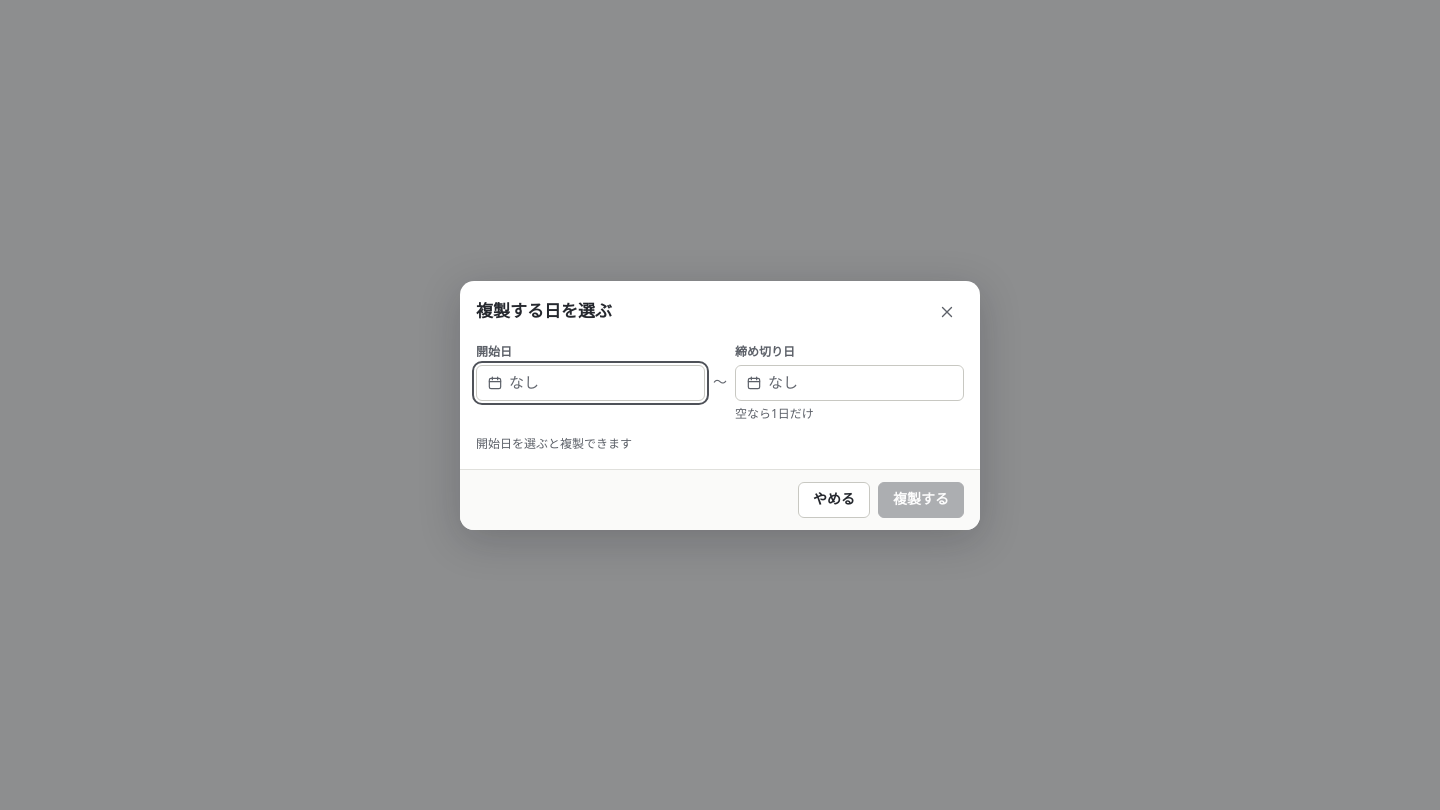
Test: 複製する日を選ぶ（12.7） › 元が複数日の予定なら、開始日を選ぶと締め切り日を元と同じ日数で入れる（直せる。ITEMS-255）
Click the button with test id "dup-start": x=590, y=382 [476, 364, 705, 400]
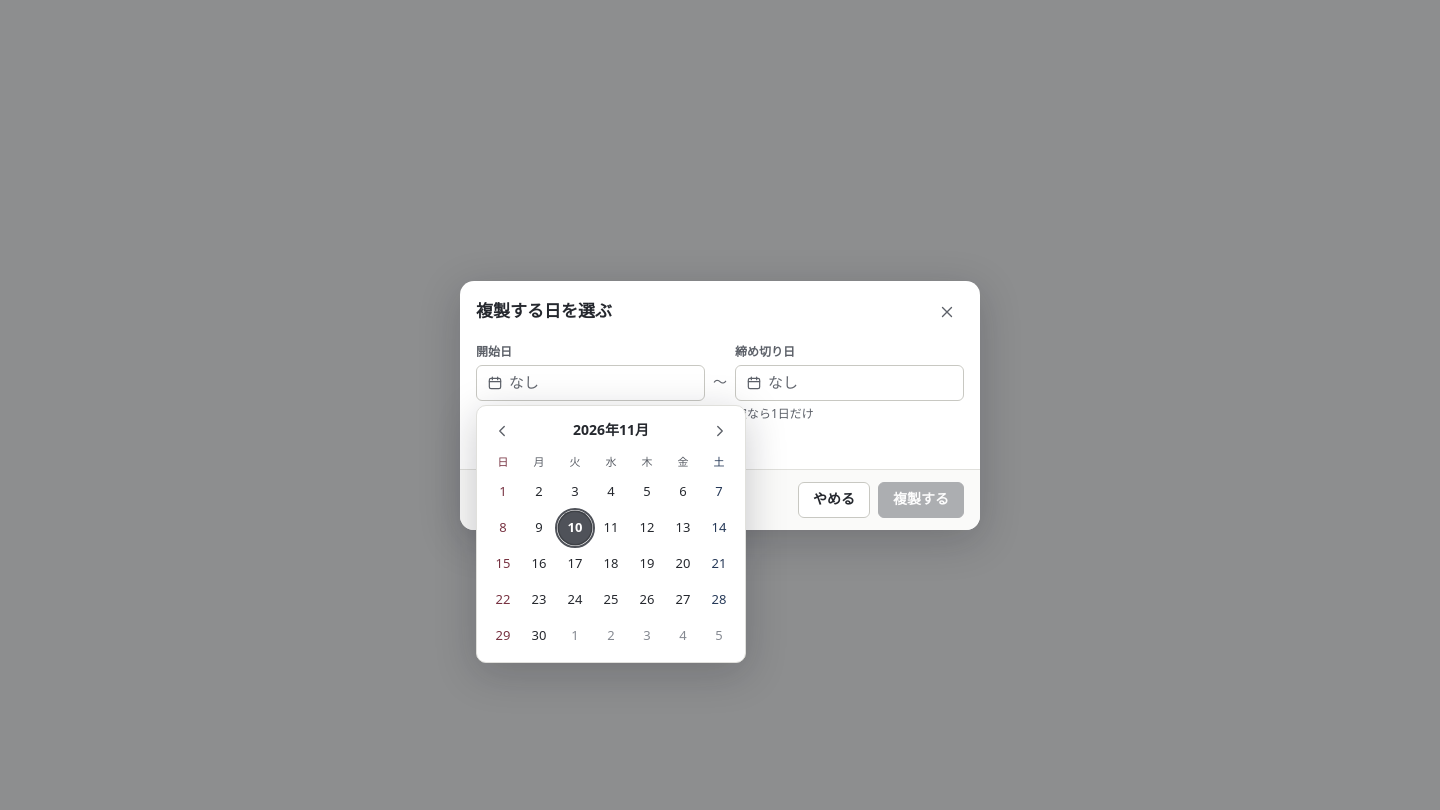
Click the button "17": x=575, y=564 [559, 548, 591, 580]
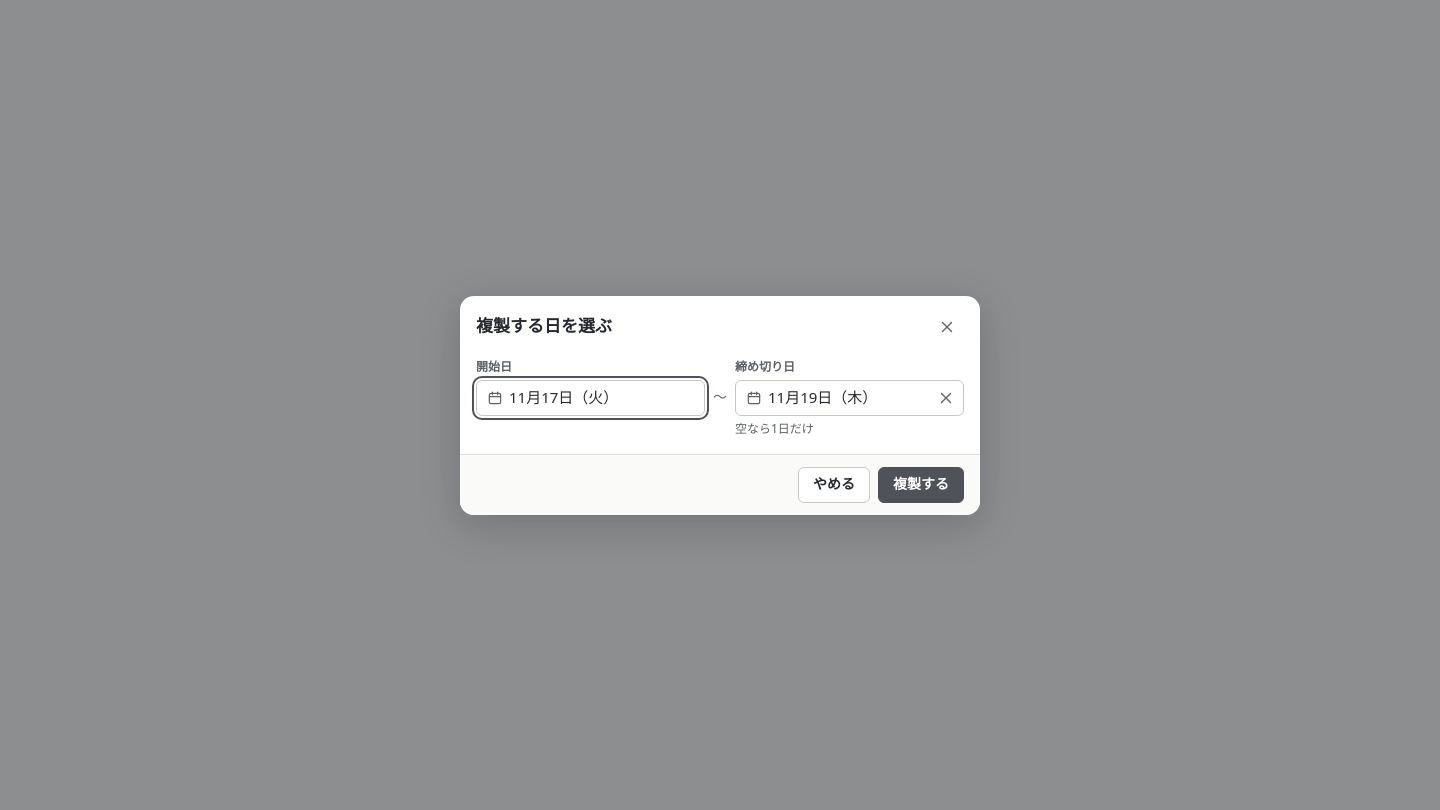
expect the button with test id "dup-due" reads "11月19日（木）": met
Click the button with test id "dup-due": x=850, y=398 [735, 380, 964, 416]
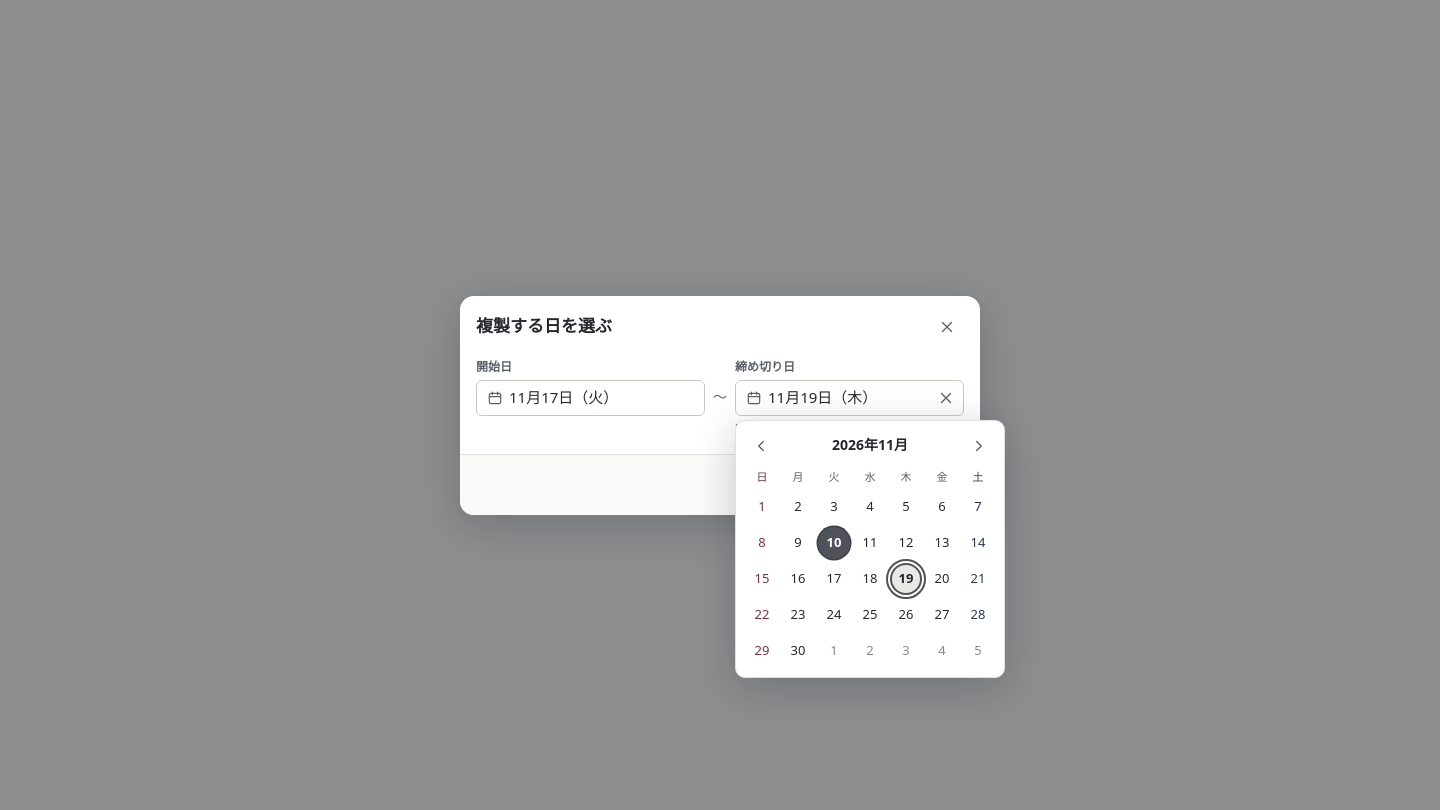
Click the button "20": x=942, y=578 [926, 562, 958, 594]
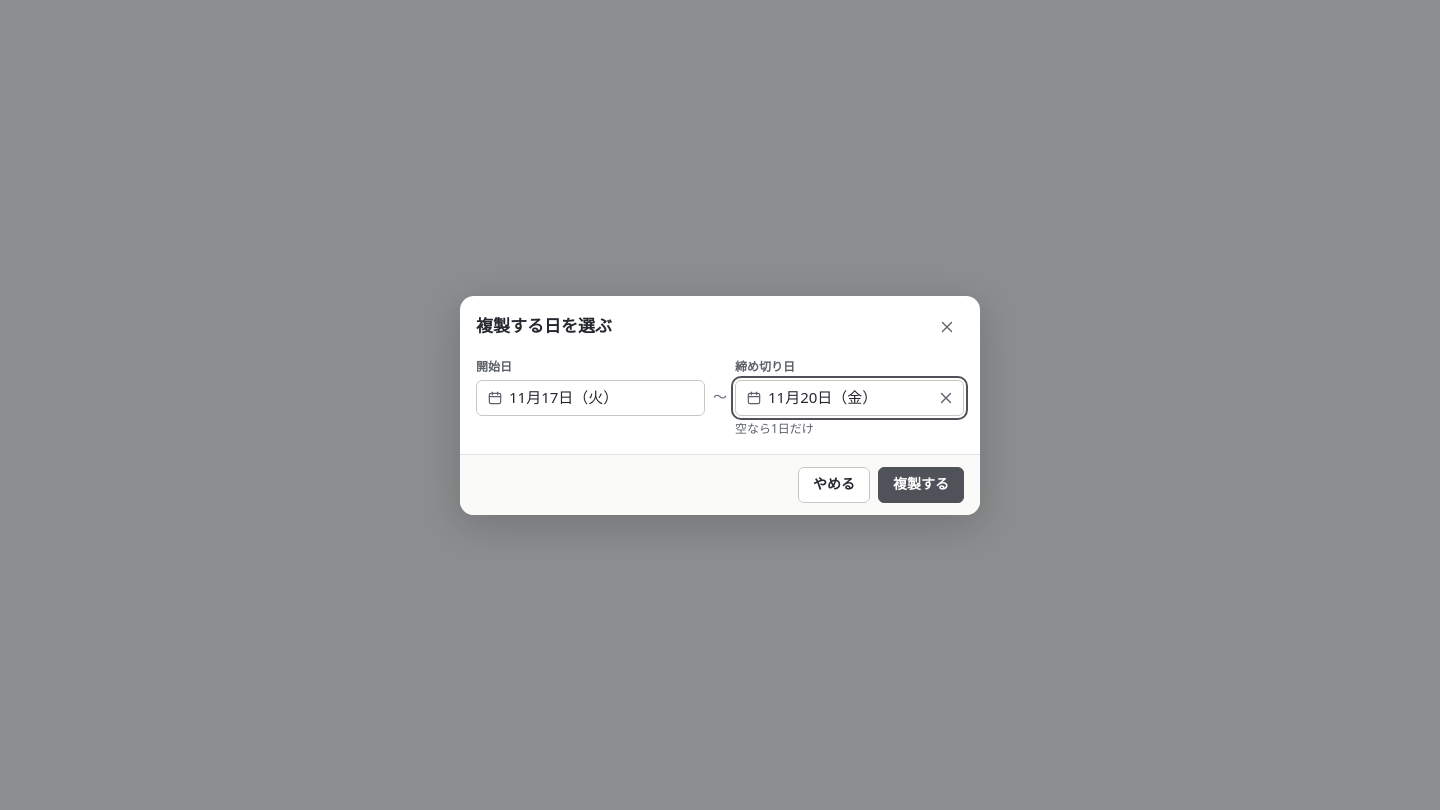
expect the button with test id "dup-due" reads "11月20日（金）": met, box [735, 380, 964, 416]
